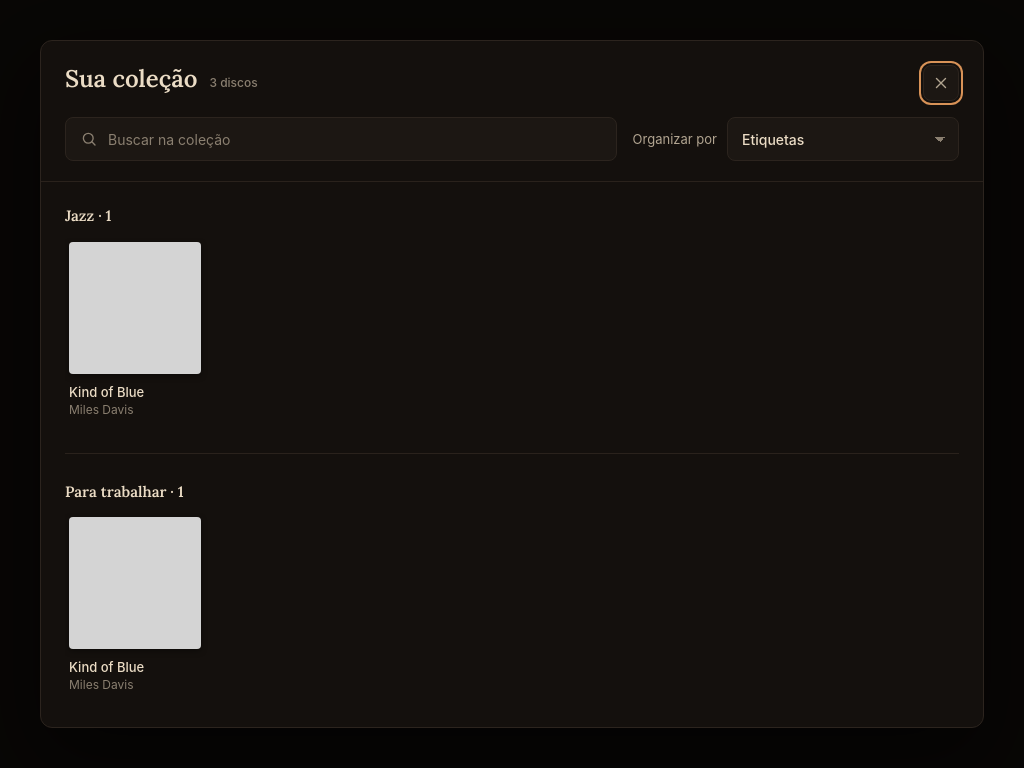
Test: Collection › busca › por nome ou artista, sem acento; o contador mostra "X de Y"
The image size is (1024, 768).
Type "angela" into the search field at (355, 139), box [108,118,602,160]
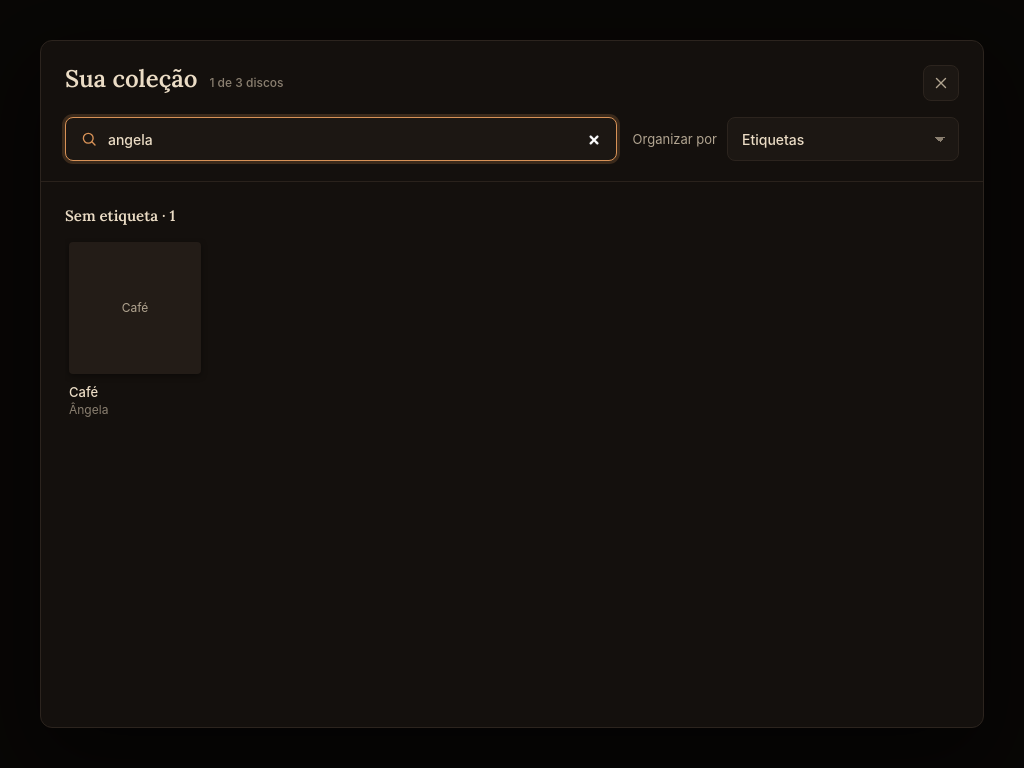
Result: the text "1 de 3 discos" is shown at [209,75,284,90]
Result: the button with aria-label "Abrir Café" is shown at [69,242,201,374]
